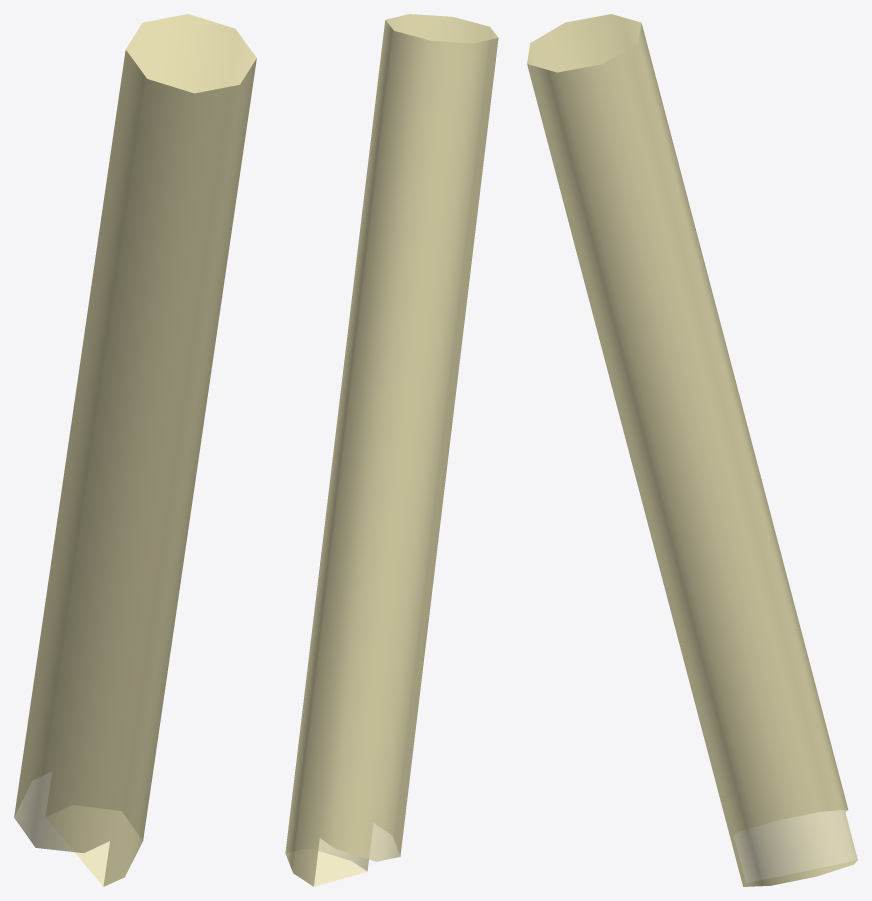
File: original-19.obj
3 views of the same model, side by side, from view 1: azimuth 30°, elevation 25°; view 2: azimuth 150°, elevation 25°; view 3: azimuth 270°, elevation 25° (orthographic). The views are drawn at different scales.
Parts seen in each view (by area): view 1: Group_23_1/Group_23/mesh11/mesh11-geometry#mesh11-geometry; view 2: Group_23_1/Group_23/mesh11/mesh11-geometry#mesh11-geometry; view 3: Group_23_1/Group_23/mesh11/mesh11-geometry#mesh11-geometry.
Part boxes in pixels (box(x1,y1,x2,y2)): Group_23_1/Group_23/mesh11/mesh11-geometry#mesh11-geometry: box(14, 14, 256, 886); Group_23_1/Group_23/mesh11/mesh11-geometry#mesh11-geometry: box(285, 14, 498, 886); Group_23_1/Group_23/mesh11/mesh11-geometry#mesh11-geometry: box(527, 14, 857, 886).
Bounding box in the file's own units: 0.00826 × 0.066 × 0.0232.
